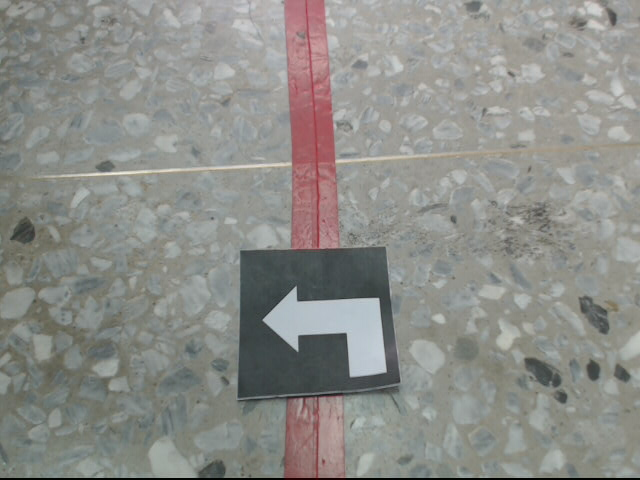left: (236, 246, 407, 399)
